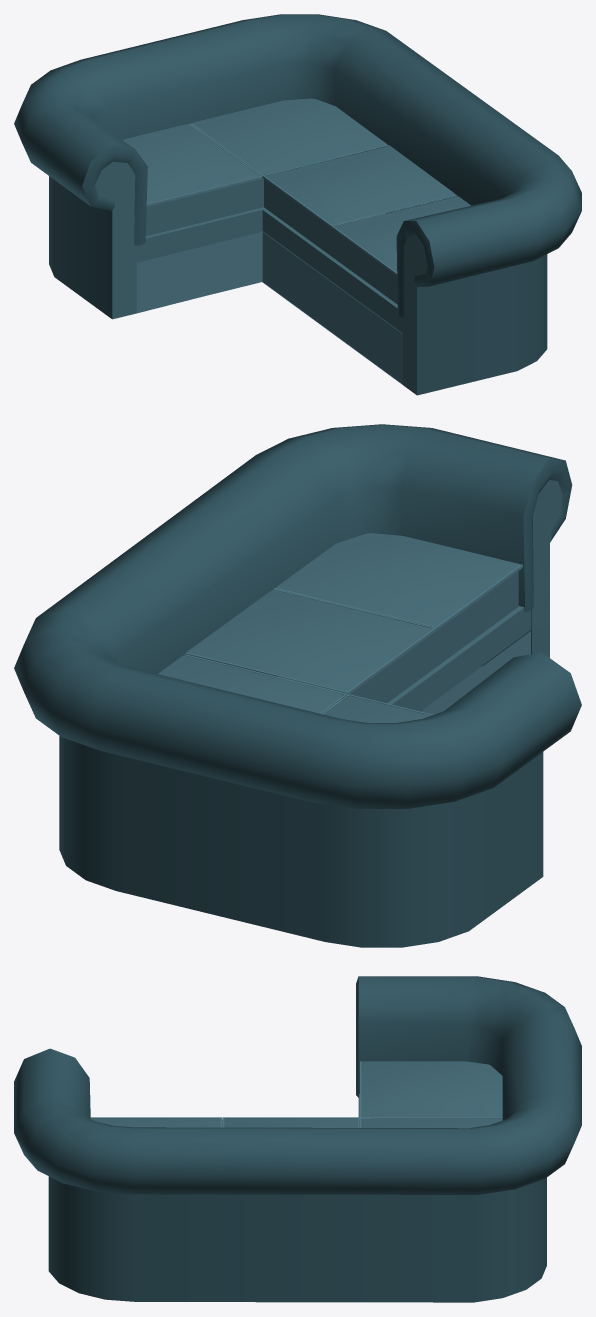
File: sofa_021.glb
3 renders of one model, top to bottom at view 1: azimuth 30°, elevation 25°; view 2: azimuth 150°, elevation 25°; view 3: azimuth 270°, elevation 25°, orthographic. The views are drawn at different scales.
Parts seen in each view (by area): view 1: sofa_021; view 2: sofa_021; view 3: sofa_021.
Boxes of the visible parts, left/top/right/bottom form: sofa_021: left=14, top=14, right=581, bottom=395; sofa_021: left=14, top=424, right=581, bottom=947; sofa_021: left=14, top=976, right=581, bottom=1302.
Size of the model in its own units: 1.89 by 0.8431 by 2.48.
Materials: 1 (1 with a texture image).
